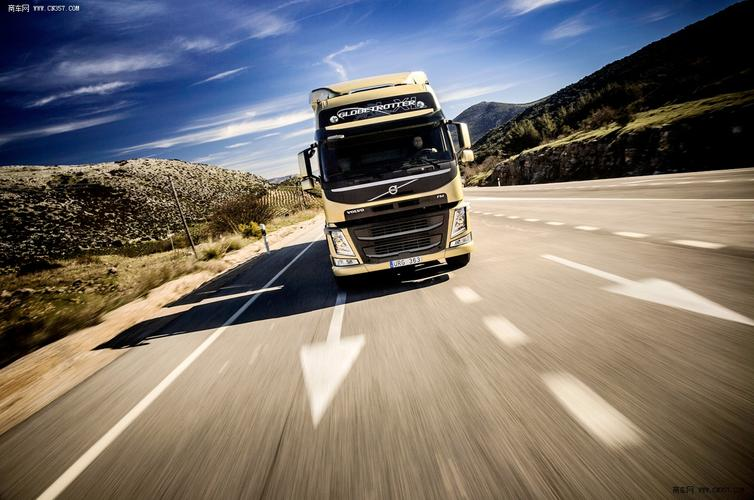卡车: (289, 59, 500, 294)
